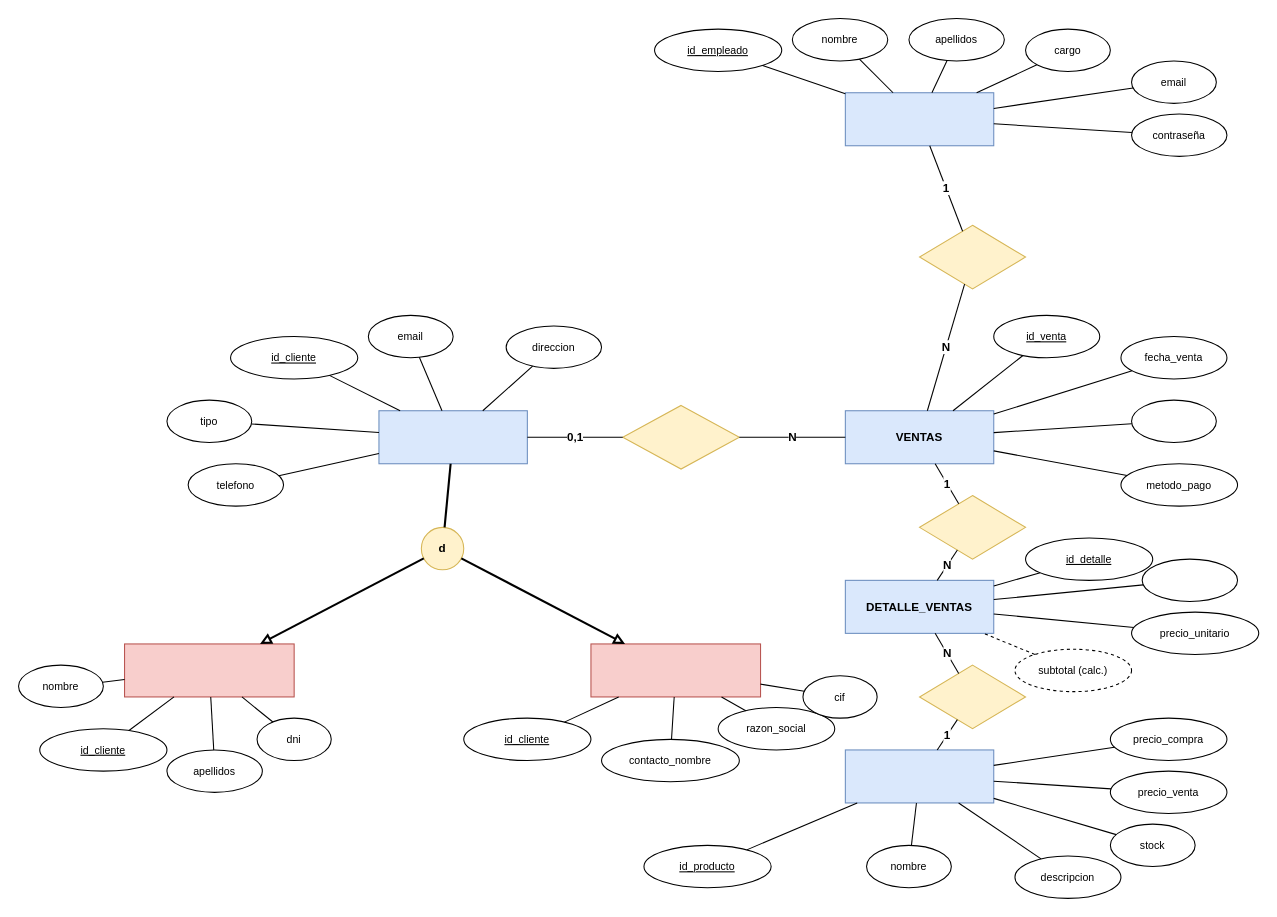
Image size: 1277x917. Some labels were removed from this diagram. Here are the shapes that lost their labels. From the top down, the box of each, then its label:
(844, 92, 994, 146): EMPLEADOS
(918, 224, 1026, 289): gestiona
(378, 410, 527, 464): CLIENTES
(622, 404, 739, 469): realiza
(1130, 399, 1216, 443): total
(918, 494, 1026, 559): contiene
(1141, 558, 1238, 602): cantidad
(123, 643, 294, 697): CLIENTES_PARTICULAR
(590, 643, 761, 697): CLIENTES_EMPRESA
(918, 664, 1026, 729): incluye
(844, 749, 994, 803): PRODUCTOS
